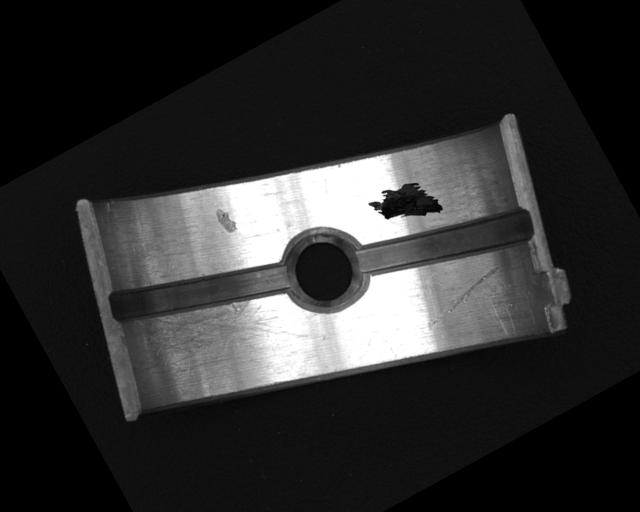blot: (364, 168, 445, 243)
bruise: (212, 204, 240, 236)
gap: (103, 213, 298, 372), (349, 167, 539, 318)
hole: (267, 216, 377, 326)
nick: (417, 263, 510, 331)
scratch: (121, 254, 307, 414)
